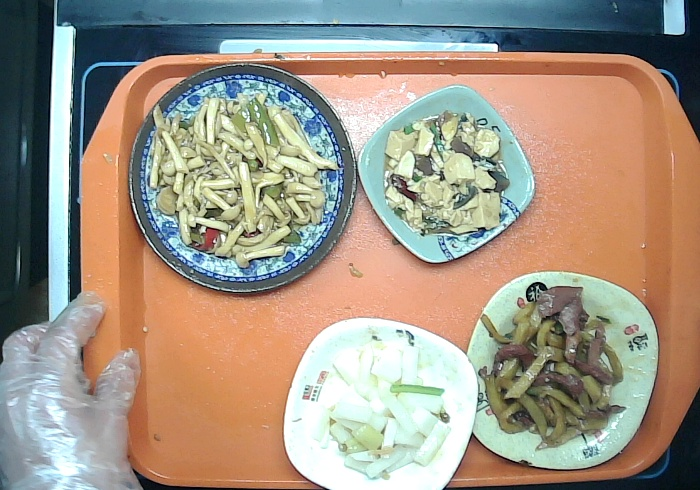NLDX-Bai_Se_Xiao_Fang_Die: (281, 314, 480, 490)
NLDX-Fu_Zi_Fang_Die: (465, 268, 661, 471)
NLDX-Qing_Hua_Xiao_Fang_Die: (355, 84, 536, 265)
NLDX-Qing_Hua_Yuan_Die: (126, 58, 358, 298)
